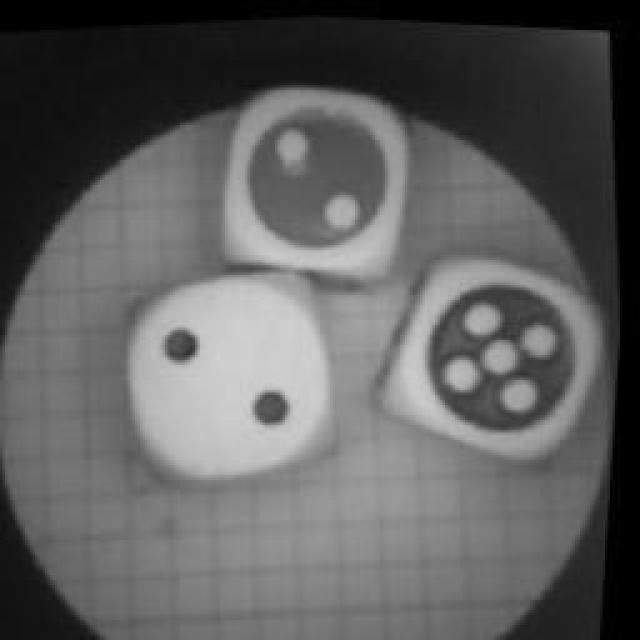dice_2: (107, 244, 365, 498), (208, 58, 438, 292)
dice_5: (375, 219, 627, 476)
